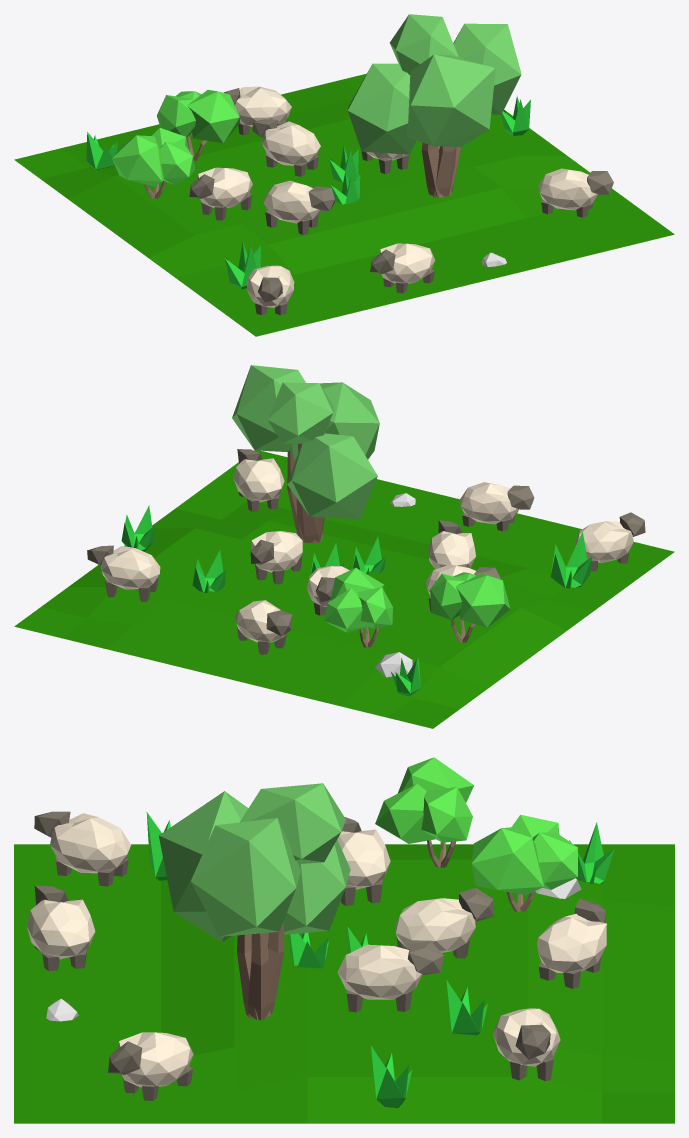
The model's file is owce.fbx.
3 views of the same model, one above another, from view 1: azimuth 30°, elevation 25°; view 2: azimuth 150°, elevation 25°; view 3: azimuth 270°, elevation 25° (orthographic). The views are drawn at different scales.
Visible parts, largest first — view 1: Grid.010; view 2: Grid.010; view 3: Grid.010.
Part boxes in pixels (x1,y1,x2,y2): Grid.010: (14,14,674,336); Grid.010: (14,365,674,728); Grid.010: (14,757,674,1123).
Bounding box in the file's own units: 1000 × 435 × 1000.
